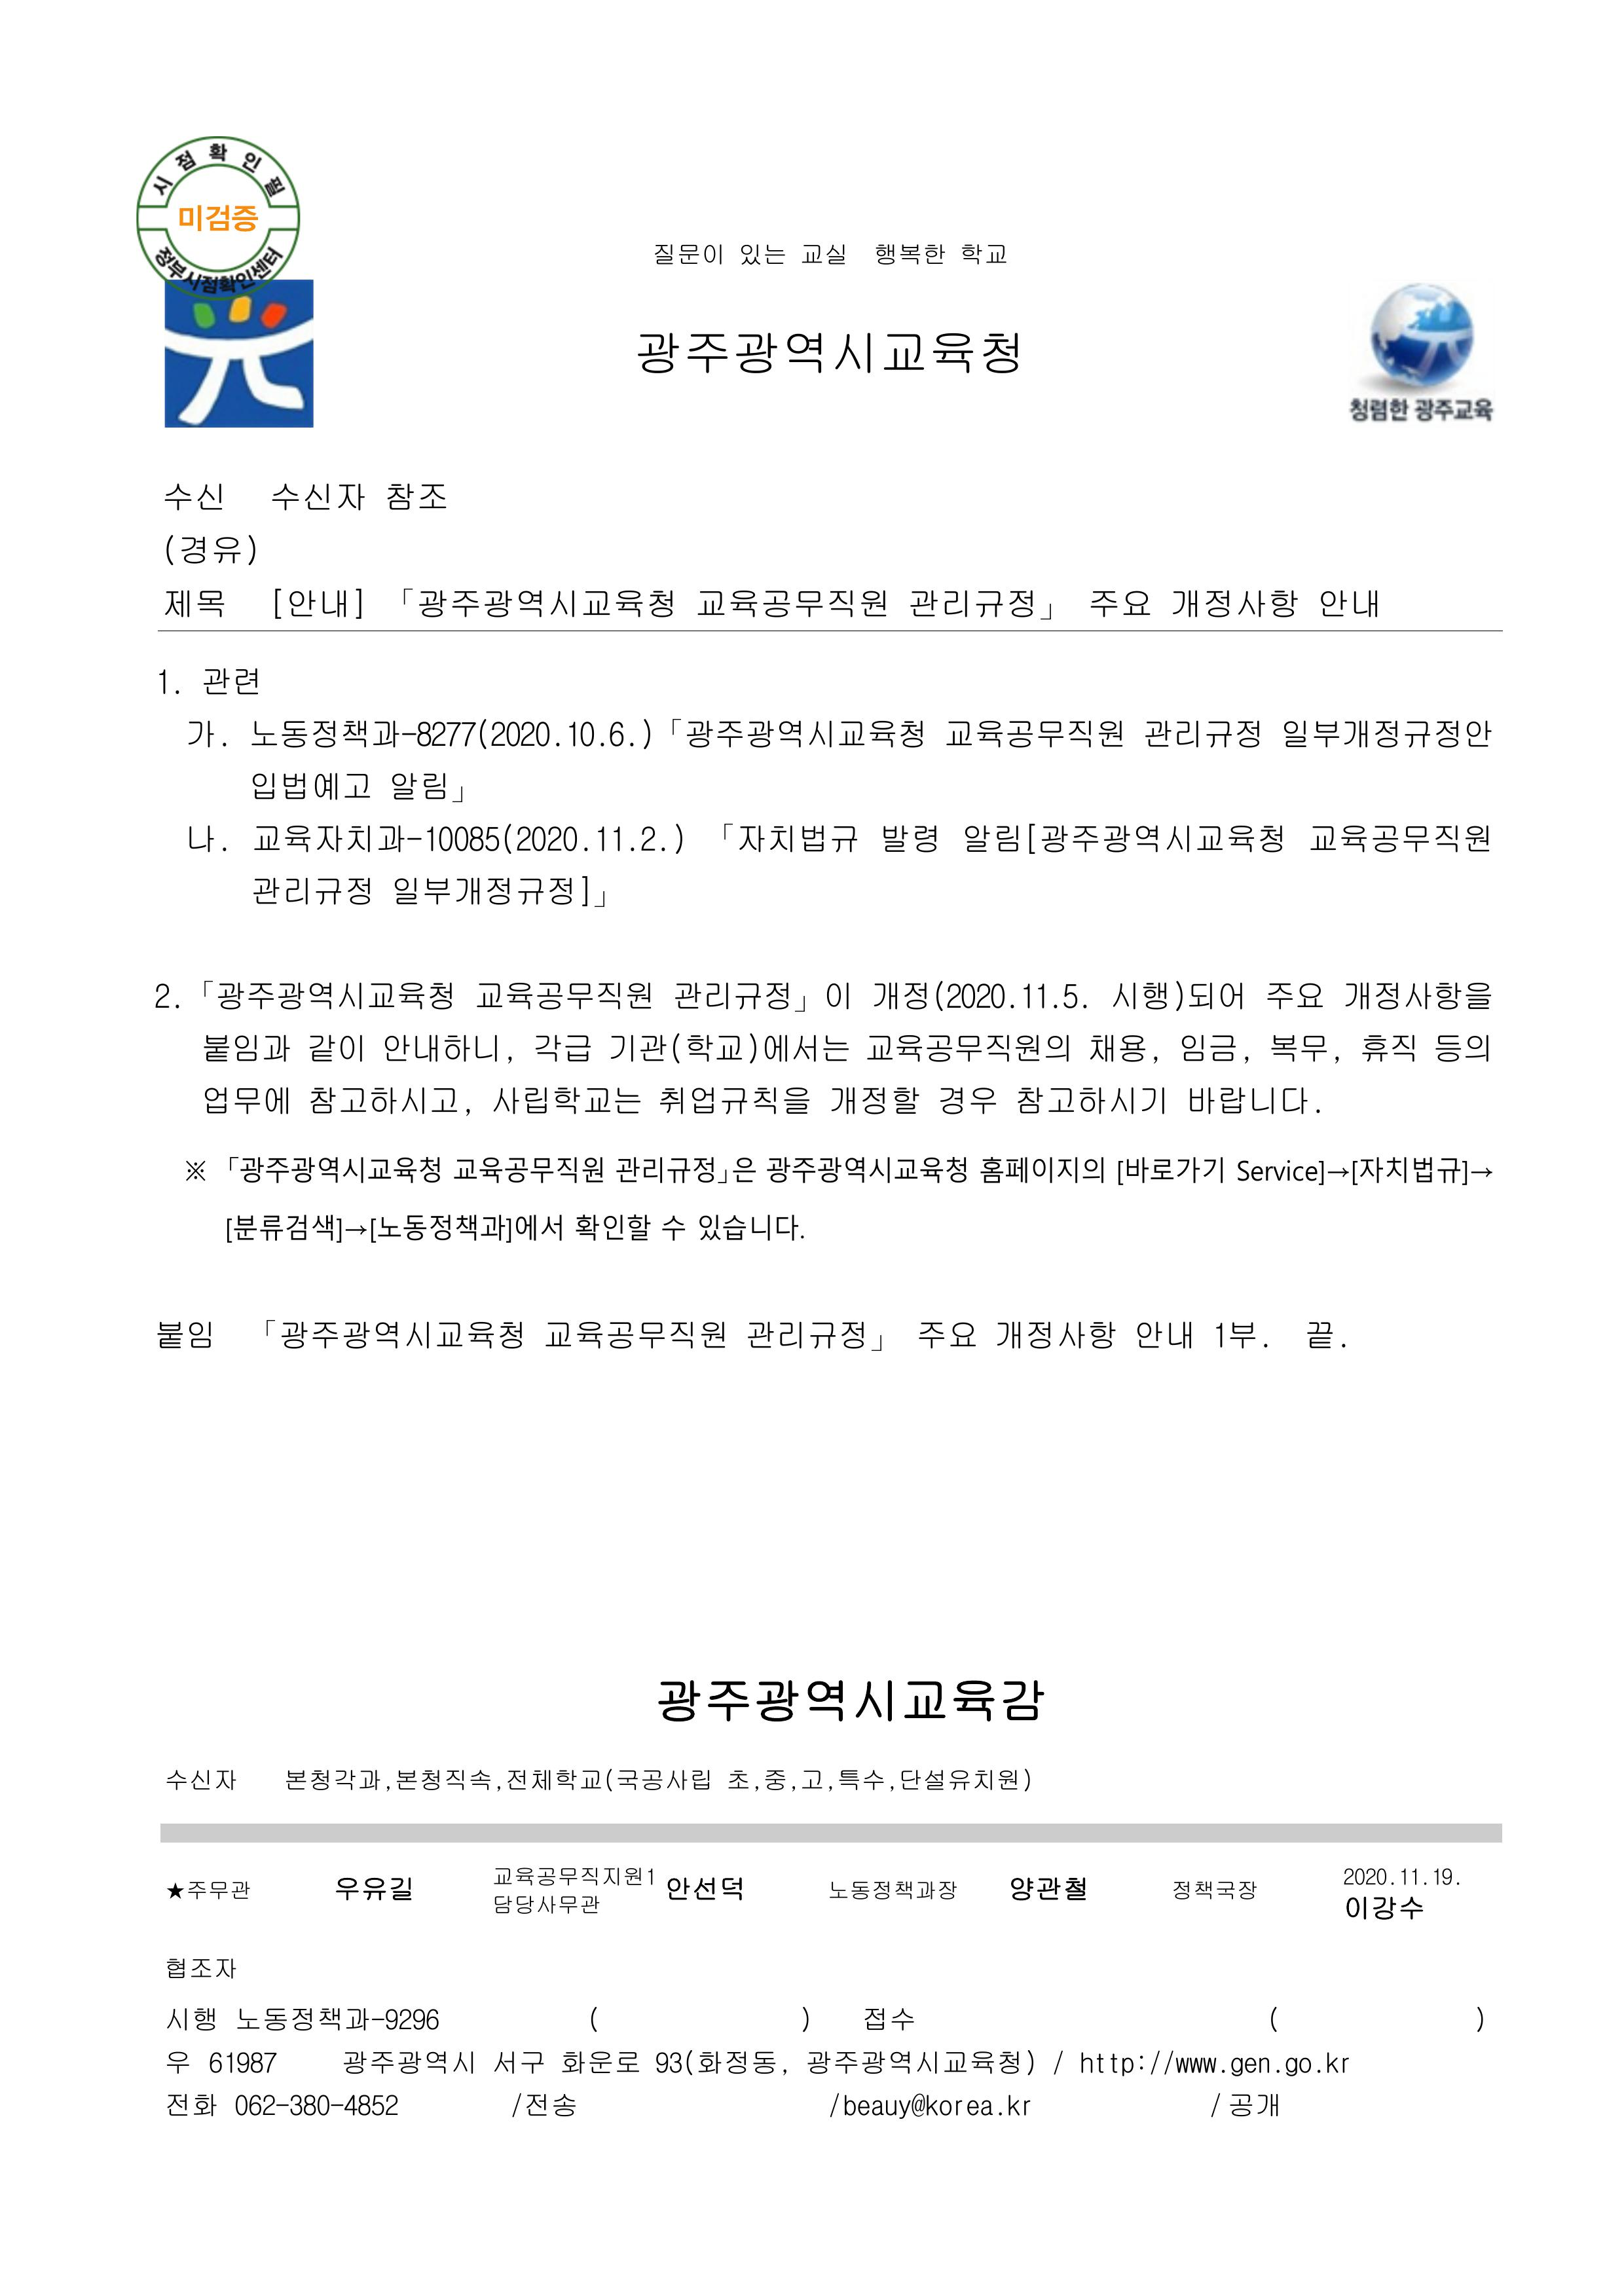t: (656, 1675, 1048, 1727), (634, 327, 1021, 380), (221, 1207, 566, 1248), (246, 713, 555, 754), (961, 821, 1283, 856), (666, 713, 924, 754), (397, 583, 678, 620), (197, 975, 455, 1014), (606, 1028, 849, 1068), (258, 1316, 527, 1351), (1234, 1151, 1496, 1186), (728, 1768, 1033, 1796), (390, 872, 610, 910), (803, 2044, 1040, 2079), (1280, 717, 1496, 754), (863, 1028, 1072, 1065), (232, 2000, 441, 2037), (227, 1151, 445, 1186), (944, 713, 1125, 754), (761, 1151, 968, 1186), (696, 583, 889, 620), (473, 975, 652, 1014), (501, 1764, 714, 1796), (1306, 821, 1492, 856), (541, 1316, 728, 1351), (251, 821, 424, 856), (907, 583, 1055, 624), (418, 821, 584, 856), (304, 1082, 469, 1118), (1011, 1082, 1169, 1118), (1338, 979, 1492, 1014), (656, 1082, 810, 1118), (452, 1151, 606, 1186), (490, 1082, 642, 1118), (1107, 975, 1244, 1014), (613, 1151, 761, 1186), (928, 979, 1090, 1010), (380, 1028, 517, 1065), (1183, 1082, 1320, 1118), (341, 2044, 476, 2079), (1169, 583, 1297, 620), (251, 872, 373, 910), (975, 1151, 1107, 1186), (742, 1316, 872, 1351), (652, 2044, 780, 2079), (1141, 717, 1262, 754), (731, 821, 856, 856), (993, 1316, 1118, 1351), (842, 2095, 997, 2123), (696, 1207, 803, 1248), (671, 979, 793, 1014), (269, 583, 366, 624), (162, 531, 258, 569), (494, 1864, 645, 1889), (269, 476, 369, 513), (1111, 1155, 1225, 1186), (828, 1879, 961, 1905), (591, 821, 689, 856), (200, 1028, 294, 1065), (824, 1082, 921, 1118), (283, 1764, 387, 1796), (390, 1764, 494, 1796), (200, 1082, 294, 1118), (176, 200, 258, 237), (569, 1207, 652, 1244), (1410, 394, 1496, 427), (286, 2095, 401, 2119), (1176, 1028, 1244, 1068), (490, 1893, 603, 1917), (334, 1871, 417, 1905), (663, 1871, 745, 1905), (1007, 1871, 1090, 1905), (387, 766, 455, 803), (1265, 1028, 1334, 1065), (872, 237, 951, 269), (1341, 1893, 1424, 1922), (555, 2047, 642, 2075), (383, 476, 448, 513), (162, 583, 227, 620), (1086, 583, 1151, 620), (304, 1028, 369, 1065), (1086, 1028, 1151, 1065), (932, 1082, 997, 1118), (914, 1316, 979, 1351), (1076, 2047, 1148, 2079), (200, 662, 262, 699), (1355, 1028, 1417, 1065), (1431, 1028, 1492, 1065), (1172, 1879, 1258, 1905), (868, 979, 932, 1014), (531, 1028, 591, 1065), (169, 1879, 251, 1905), (1345, 394, 1410, 427), (162, 480, 227, 513), (1262, 979, 1323, 1014), (879, 821, 939, 856), (1134, 1316, 1193, 1351), (506, 2089, 576, 2119), (251, 766, 308, 803), (308, 771, 373, 803), (156, 1316, 214, 1351), (1316, 589, 1380, 620), (169, 1768, 239, 1796), (1207, 1316, 1262, 1351), (1225, 2088, 1280, 2123), (652, 244, 728, 269), (165, 1958, 237, 1982), (207, 2051, 276, 2075), (735, 239, 789, 269), (183, 717, 232, 749), (490, 2047, 545, 2075), (165, 2005, 218, 2033), (165, 2095, 221, 2119), (863, 2007, 914, 2033), (1301, 1316, 1338, 1351), (1162, 2054, 1223, 2075), (183, 821, 221, 854), (800, 244, 849, 269), (958, 244, 1007, 269), (562, 717, 599, 749), (232, 2095, 279, 2119), (1283, 2054, 1327, 2079), (155, 666, 186, 699), (656, 1213, 689, 1244), (1341, 1868, 1390, 1889), (1230, 2054, 1272, 2079), (606, 717, 638, 749), (821, 979, 852, 1010), (1004, 2096, 1033, 2119), (155, 982, 176, 1010), (1323, 2054, 1352, 2075), (1397, 1868, 1424, 1889), (1431, 1868, 1455, 1889), (169, 2051, 190, 2075), (638, 724, 649, 745)
